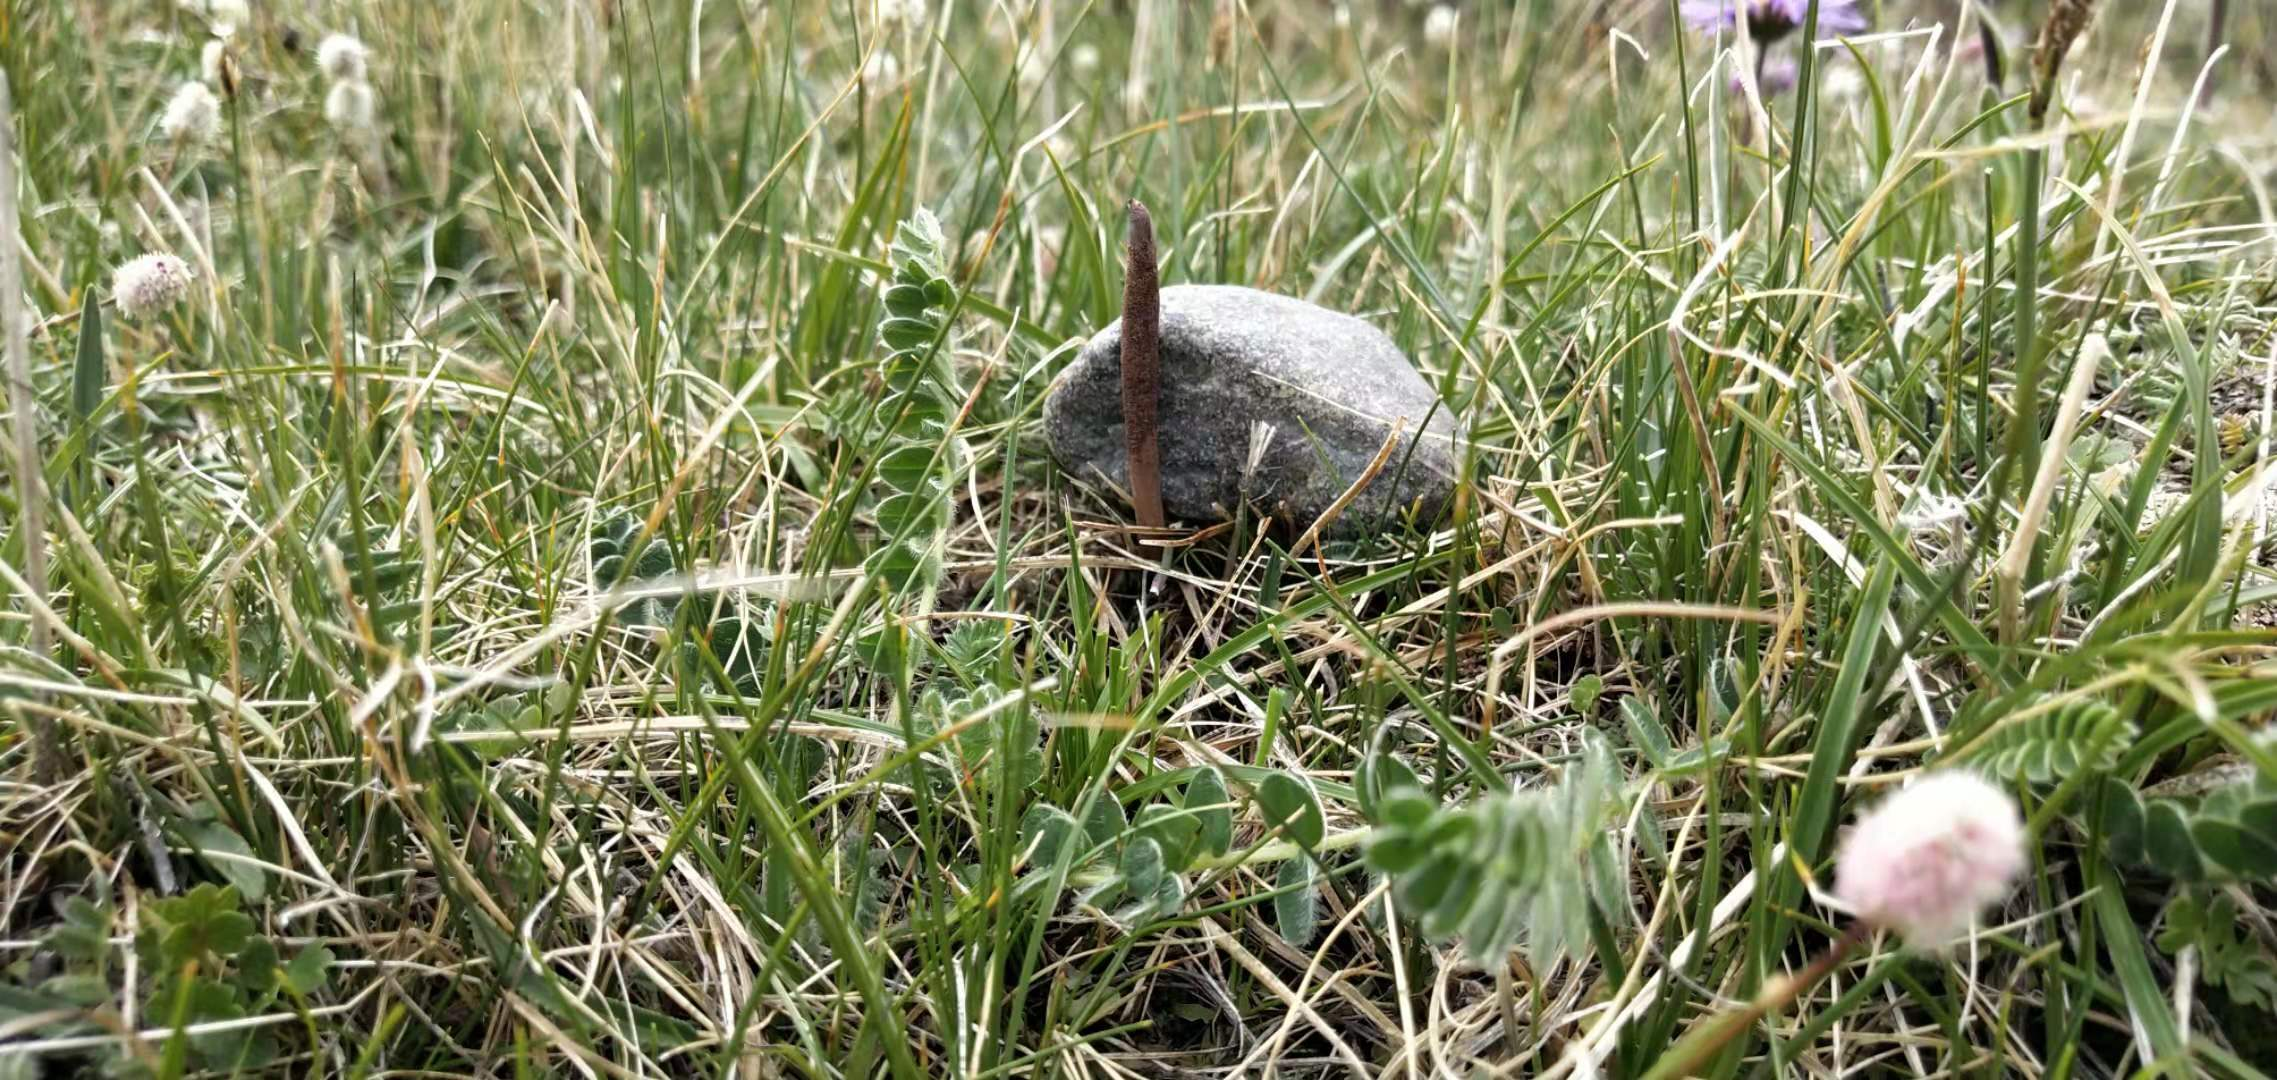cpf: (1117, 200, 1165, 559)
